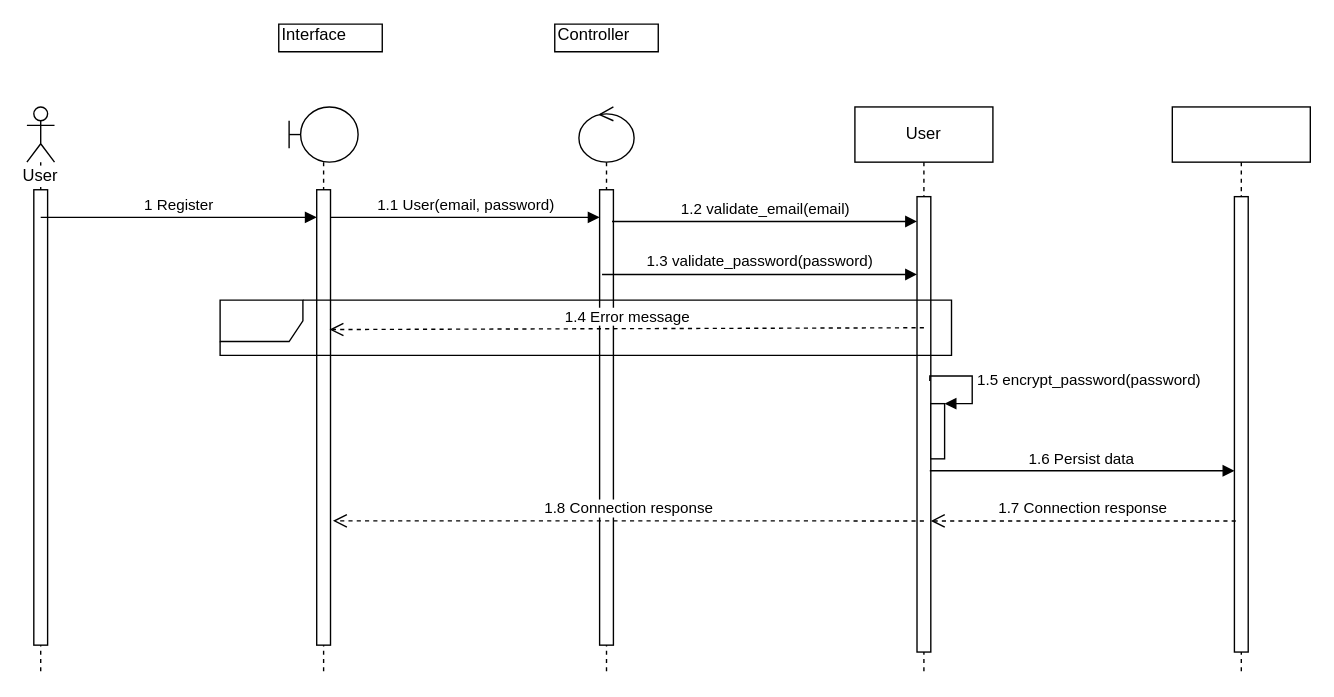
Some shapes in this 1334 by 697 pixel diagram are drawn without their labels. The shapes that lost their labels are listed below. From the top down, each one's box as (x1, y1, x2, y2) in pixels, then its label:
(219, 299, 952, 355): alt
(1171, 106, 1310, 673): Connection
